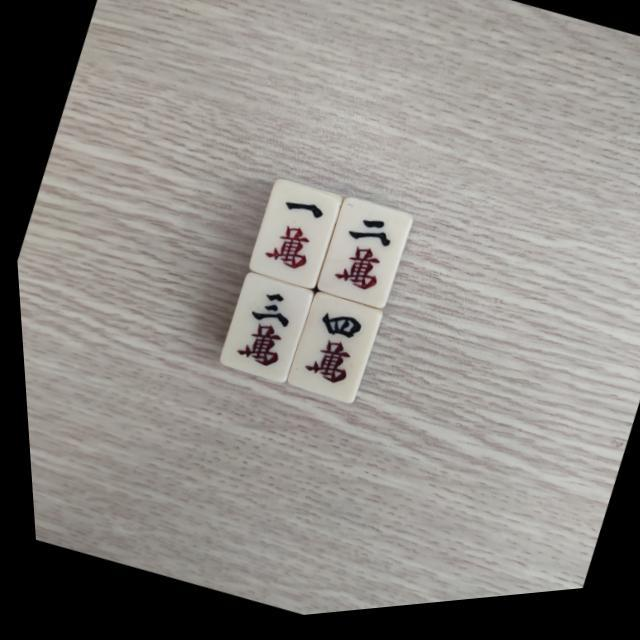sc1: (248, 184, 336, 290)
sc2: (318, 207, 407, 310)
sc3: (218, 280, 306, 384)
sc4: (287, 304, 372, 406)
